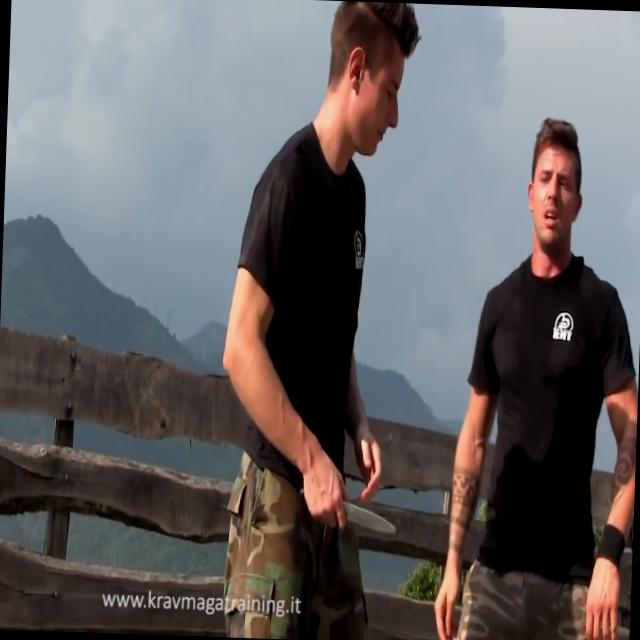knife: (296, 476, 404, 546)
